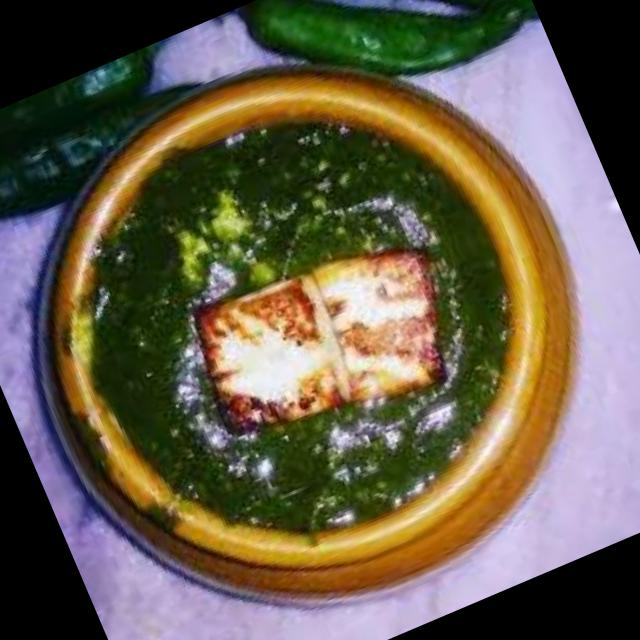palak_paneer: (19, 49, 574, 598)
